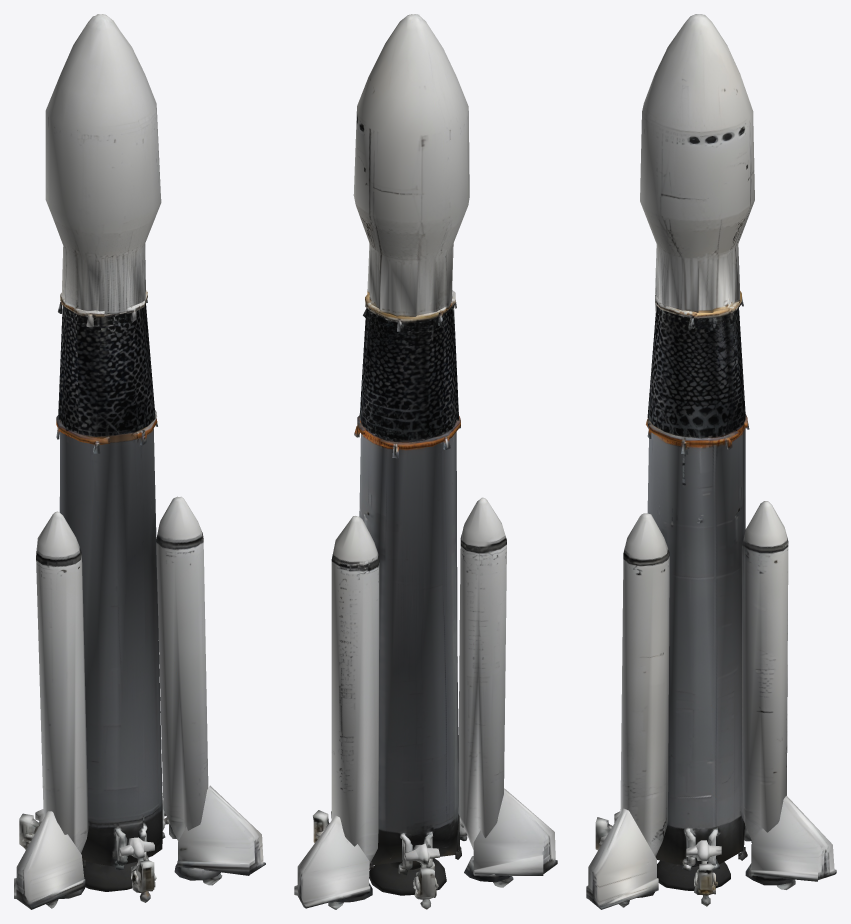
Rendered from lunar-launch-rocket.glb.
3 renders of one model, left to right at view 1: azimuth 30°, elevation 25°; view 2: azimuth 150°, elevation 25°; view 3: azimuth 270°, elevation 25°, orthographic.
Parts seen in each view (by area): view 1: tripo_node_44b82bdd-5d3b-4eea-b3b0-088ddae9aa53; view 2: tripo_node_44b82bdd-5d3b-4eea-b3b0-088ddae9aa53; view 3: tripo_node_44b82bdd-5d3b-4eea-b3b0-088ddae9aa53.
Part boxes in pixels (x1,y1,x2,y2): tripo_node_44b82bdd-5d3b-4eea-b3b0-088ddae9aa53: (14,14,265,909); tripo_node_44b82bdd-5d3b-4eea-b3b0-088ddae9aa53: (294,14,557,909); tripo_node_44b82bdd-5d3b-4eea-b3b0-088ddae9aa53: (586,14,836,909).
Size of the model in its own units: 0.2715 by 0.998 by 0.2637.
1 material, 1 textured.
